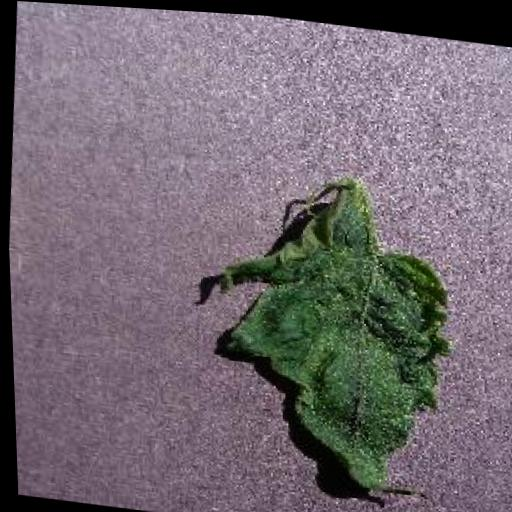Mosaic Virus: (194, 174, 466, 509)
